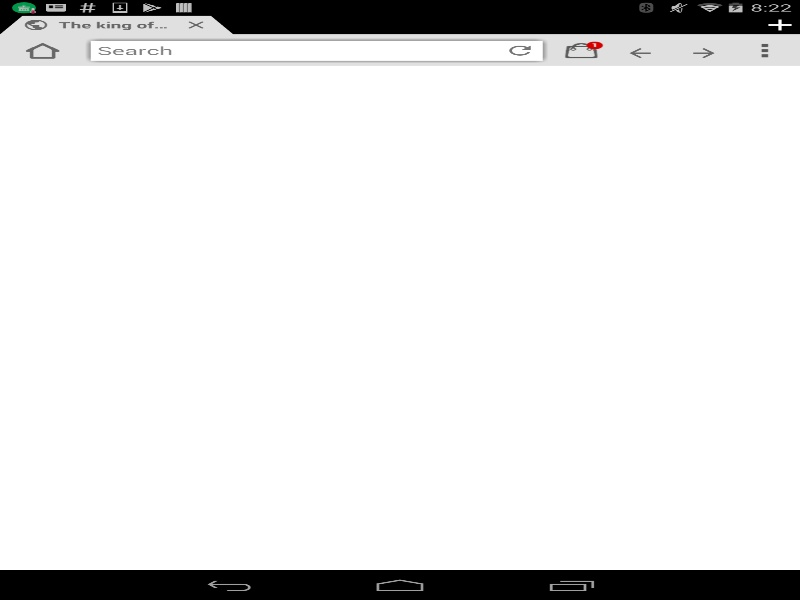Input: (90, 40, 542, 60)
